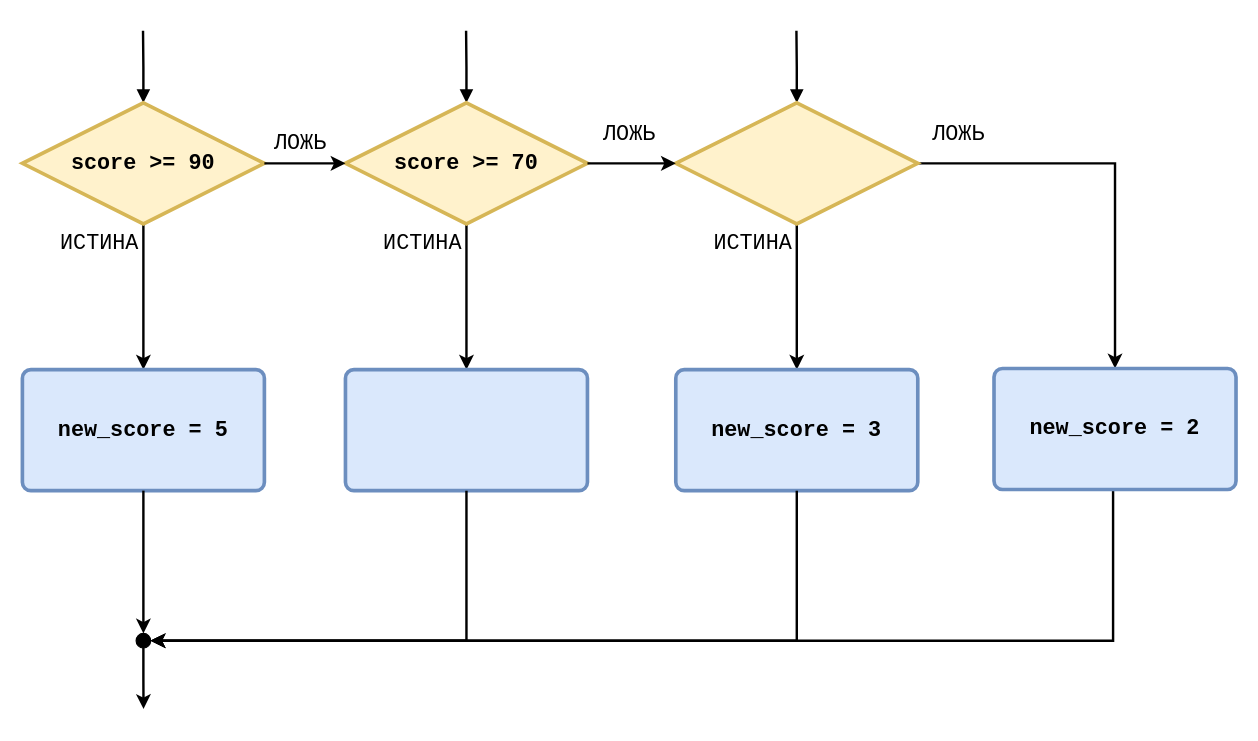
This 1258x741 diagram has some shape labels left out. The shapes that lost their labels are listed below. From the top down, each one's centre as x and y in pixels, then its label:
At point (796, 162): "score >= 50".
At point (466, 429): "new_score = 4".
